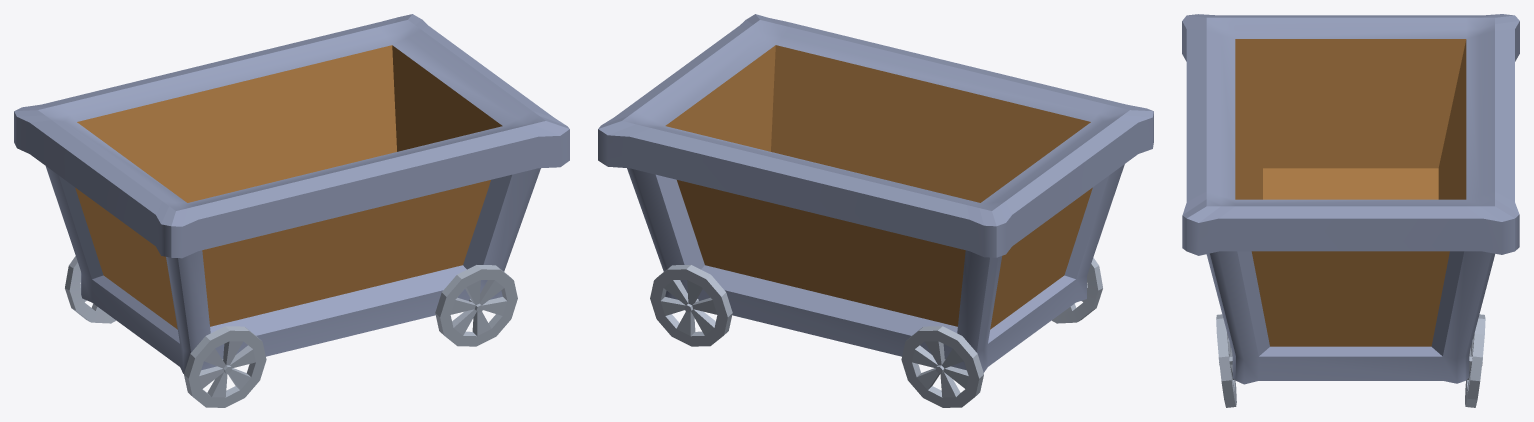
Rendered from Cart.fbx.
3 views of the same model, side by side, from view 1: azimuth 30°, elevation 25°; view 2: azimuth 150°, elevation 25°; view 3: azimuth 270°, elevation 25° (orthographic). The views are drawn at different scales.
Parts seen in each view (by area): view 1: pCube1, polySurface5; view 2: pCube1, polySurface5; view 3: pCube1, polySurface5.
Boxes of the visible parts, box(x1,y1,x2,y2) form: pCube1: box(14, 14, 569, 373); polySurface5: box(65, 256, 517, 407); pCube1: box(598, 14, 1153, 372); polySurface5: box(650, 257, 1102, 407); pCube1: box(1182, 14, 1519, 384); polySurface5: box(1216, 314, 1485, 407).
Bounding box in the file's own units: 22.03 × 11.29 × 15.17.
